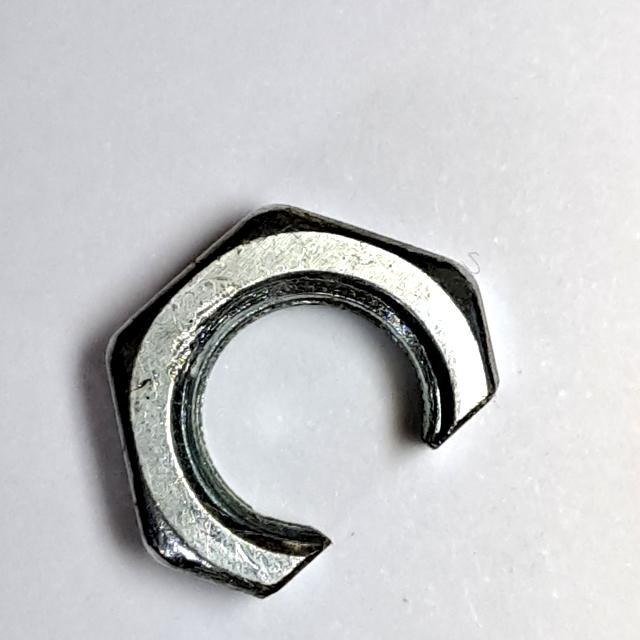Fracture: (94, 192, 514, 612)
